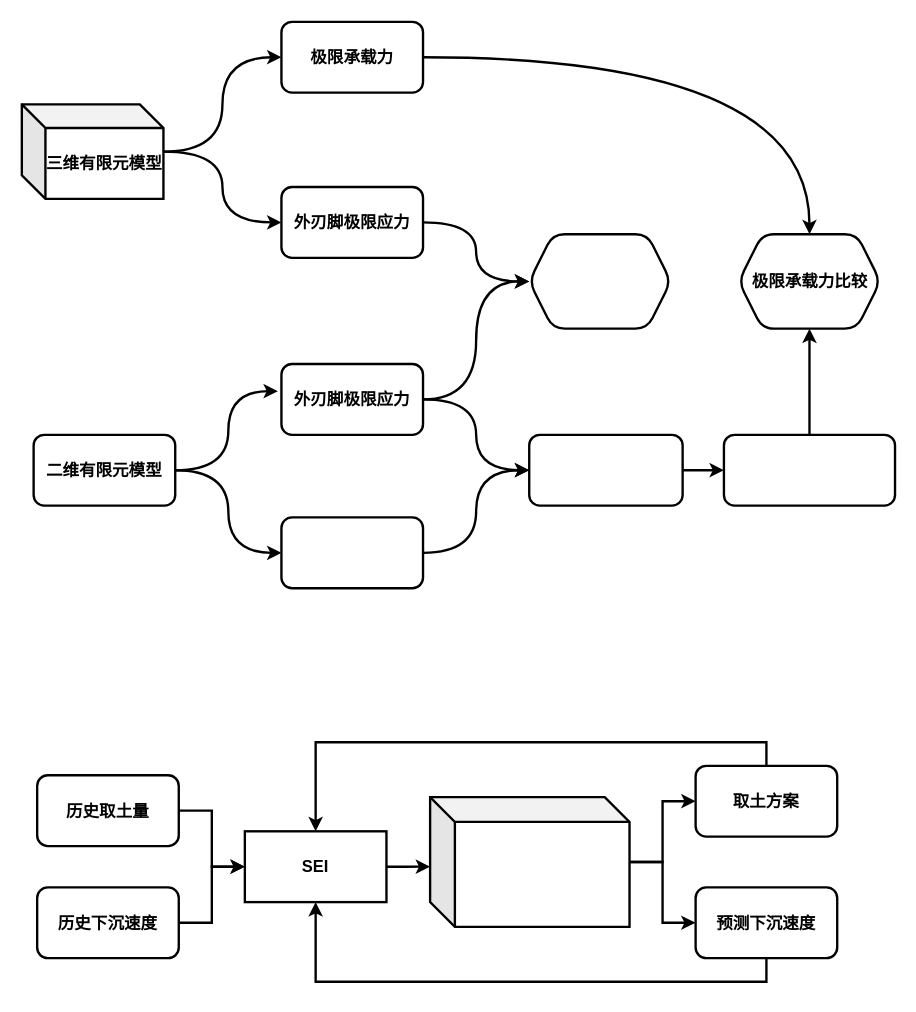
Image size: 916x1012. Some labels were removed from this diagram. Here are the shapes that lost their labels. From the top down, the centre of each, then its label:
At (599,280): "极限应力比较".
At (605,469): "分别乘相应长度".
At (809,469): "等效三维模型极限承载".
At (352,552): "外隔墙极限应力".
At (529,861): "SEI预测模型".
